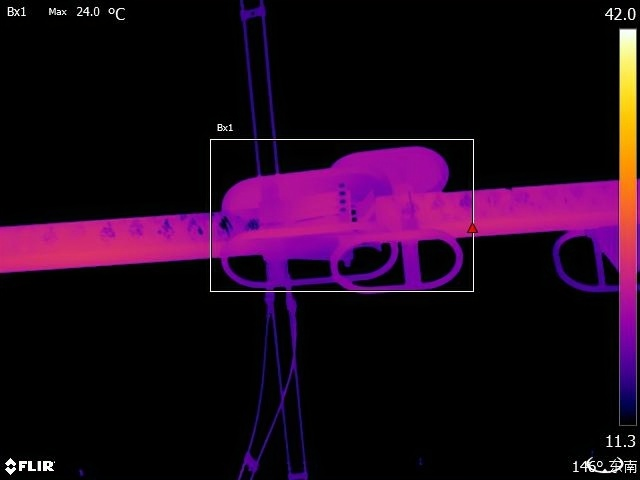switch: (2, 123, 640, 305)
